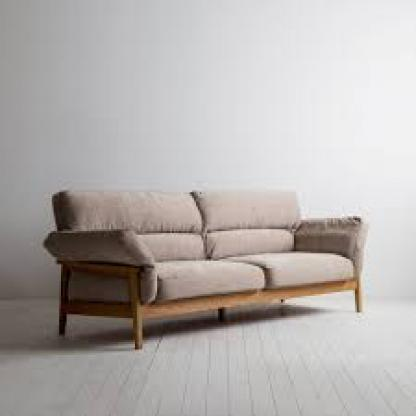sofa: (46, 183, 370, 331)
